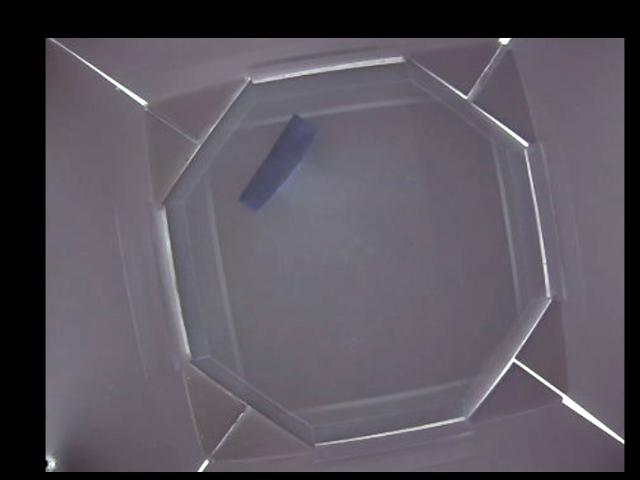Mooli: (236, 112, 317, 214)
